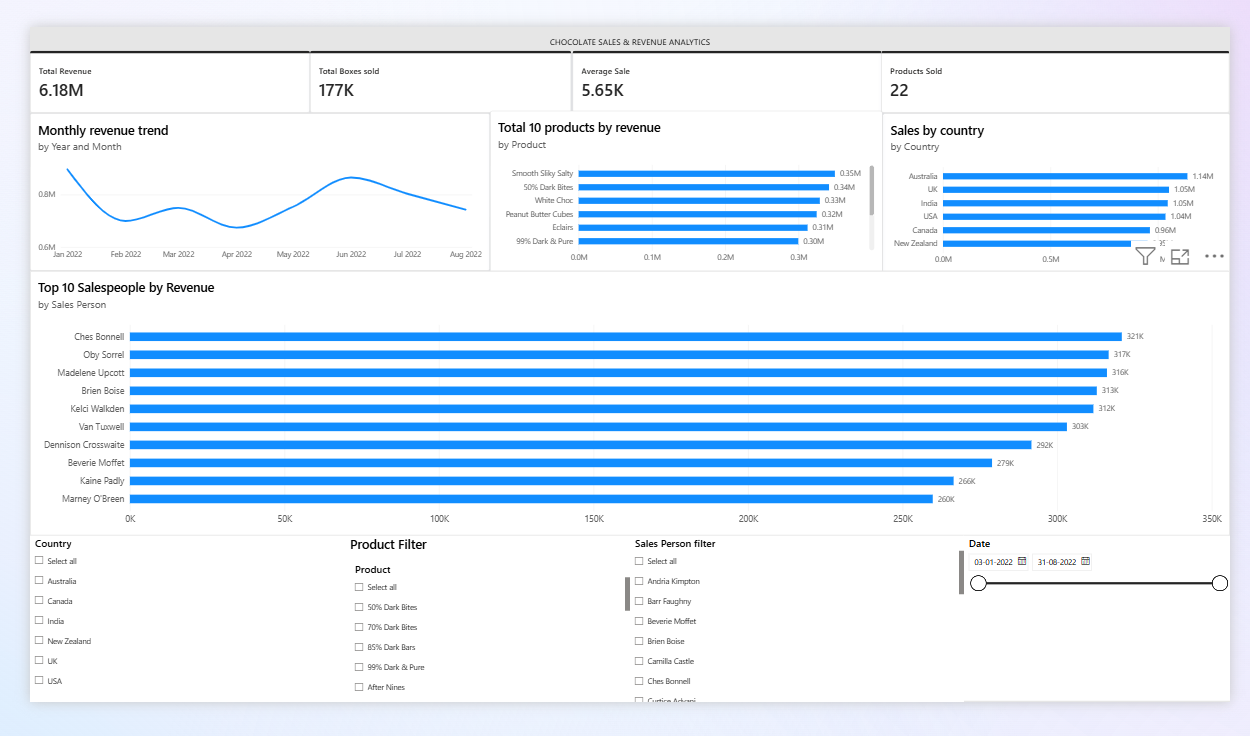

The dashboard page shown, as its layout file describes it:
{"tool":"powerbi","page":{"name":"Page 1","canvas":[1920,1080],"ordinal":0},"visuals":[{"type":"cardVisual","fields":{"Data":["Chocolate Sales.Total Revenue"]},"box":[0,38.4,448.8,99.1],"z":0},{"type":"cardVisual","fields":{"Data":["Chocolate Sales.Total Boxes"]},"box":[448.8,38.4,418.4,99.1],"z":1000},{"type":"cardVisual","fields":{"Data":["Chocolate Sales.Average Sale"]},"box":[867.2,38.4,495.3,99.1],"z":2000},{"type":"cardVisual","fields":{"Data":["Chocolate Sales.Products Sold"]},"box":[1362.5,38.4,557.9,99.1],"z":3000},{"type":"lineChart","fields":{"Category":["Chocolate Sales.Date.Variation.Date Hierarchy.Year","Chocolate Sales.Date.Variation.Date Hierarchy.Month"],"Y":["Chocolate Sales.Total Revenue"]},"box":[0,137.5,1920.4,252.7],"z":4000},{"type":"clusteredBarChart","fields":{"Category":["Chocolate Sales.Country"],"Y":["Chocolate Sales.Total Revenue"]},"box":[0,390.1,974.4,260.8],"z":5000},{"type":"clusteredBarChart","fields":{"Category":["Chocolate Sales.Product"],"Y":["Chocolate Sales.Total Revenue"]},"box":[974.4,392.2,946.1,260.8],"z":6000},{"type":"clusteredBarChart","fields":{"Category":["Chocolate Sales.Sales Person"],"Y":["Chocolate Sales.Total Revenue"]},"box":[0,634.7,1920.4,244.6],"z":7000},{"type":"slicer","fields":{"Values":["Chocolate Sales.Country"]},"box":[0,879.3,511.4,200.1],"z":8000},{"type":"slicer","title":"Product Filter","fields":{"Values":["Chocolate Sales.Product"]},"box":[511.4,877.3,448.8,202.1],"z":9000},{"type":"slicer","fields":{"Values":["Chocolate Sales.Date"]},"box":[1508,877.3,412.4,194.1],"z":10000},{"type":"slicer","fields":{"Values":["Chocolate Sales.Sales Person"]},"box":[974.4,877.3,533.7,202.1],"z":11000},{"type":"textbox","box":[1657.6,814.7,262.8,256.7],"z":12000},{"type":"textbox","box":[1658,877,262,201],"z":13000},{"type":"textbox","box":[0,0,1920.4,38.4],"z":14000}]}

Visuals, with their boxes on the page's 1920x1080 design canvas (x1, y1, x2, y2). These are canvas units, not pixel positions in the 1250x736 screenshot, which may show the page scaled, cropped or inside an application window:
cardVisual - Chocolate Sales.Total Revenue: Rect(0, 38, 449, 138)
cardVisual - Chocolate Sales.Total Boxes: Rect(449, 38, 867, 138)
cardVisual - Chocolate Sales.Average Sale: Rect(867, 38, 1362, 138)
cardVisual - Chocolate Sales.Products Sold: Rect(1362, 38, 1920, 138)
lineChart - Chocolate Sales.Date.Variation.Date Hierarchy.Year x Chocolate Sales.Date.Variation.Date Hierarchy.Month: Rect(0, 138, 1920, 390)
clusteredBarChart - Chocolate Sales.Country x Chocolate Sales.Total Revenue: Rect(0, 390, 974, 651)
clusteredBarChart - Chocolate Sales.Product x Chocolate Sales.Total Revenue: Rect(974, 392, 1920, 653)
clusteredBarChart - Chocolate Sales.Sales Person x Chocolate Sales.Total Revenue: Rect(0, 635, 1920, 879)
slicer - Chocolate Sales.Country: Rect(0, 879, 511, 1079)
"Product Filter" slicer: Rect(511, 877, 960, 1079)
slicer - Chocolate Sales.Date: Rect(1508, 877, 1920, 1071)
slicer - Chocolate Sales.Sales Person: Rect(974, 877, 1508, 1079)
textbox: Rect(1658, 815, 1920, 1071)
textbox: Rect(1658, 877, 1920, 1078)
textbox: Rect(0, 0, 1920, 38)
